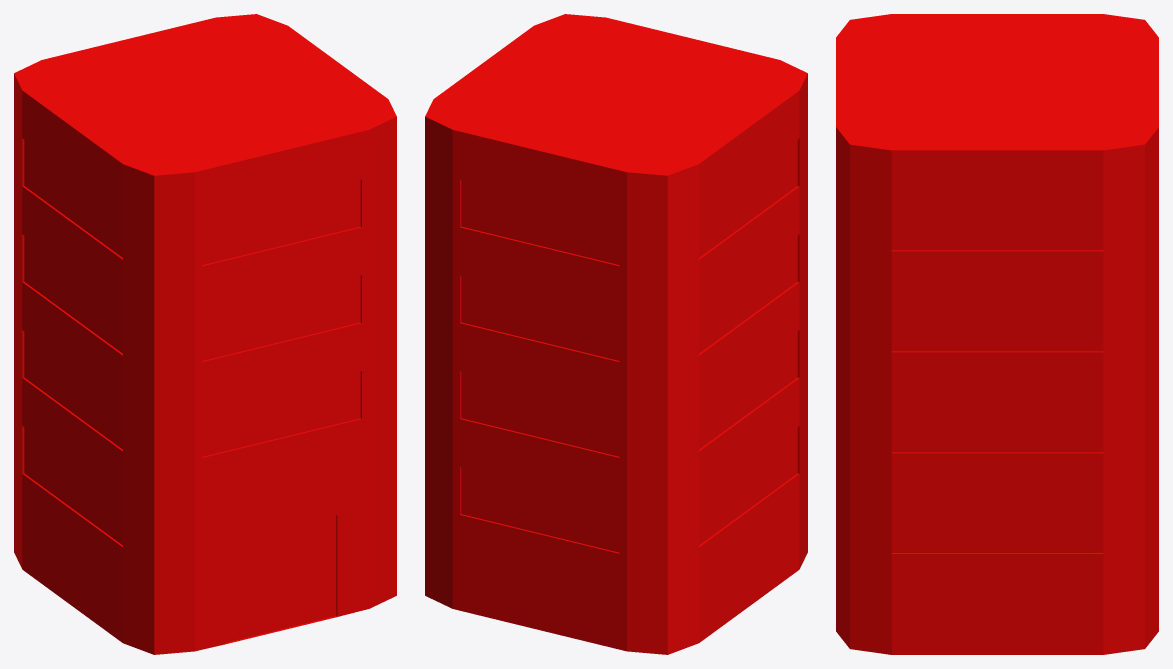
The model's file is House3_M_v1_Carrie.fbx.
3 renders of one model, left to right at view 1: azimuth 30°, elevation 25°; view 2: azimuth 150°, elevation 25°; view 3: azimuth 270°, elevation 25°, orthographic. The views are drawn at different scales.
Parts seen in each view (by area): view 1: House3_low; view 2: House3_low; view 3: House3_low.
Part boxes in pixels (bbox=[...]): House3_low: bbox=[14, 14, 396, 654]; House3_low: bbox=[425, 14, 807, 654]; House3_low: bbox=[836, 14, 1158, 654].
Size of the model in its own units: 1013 by 1747 by 1013.
